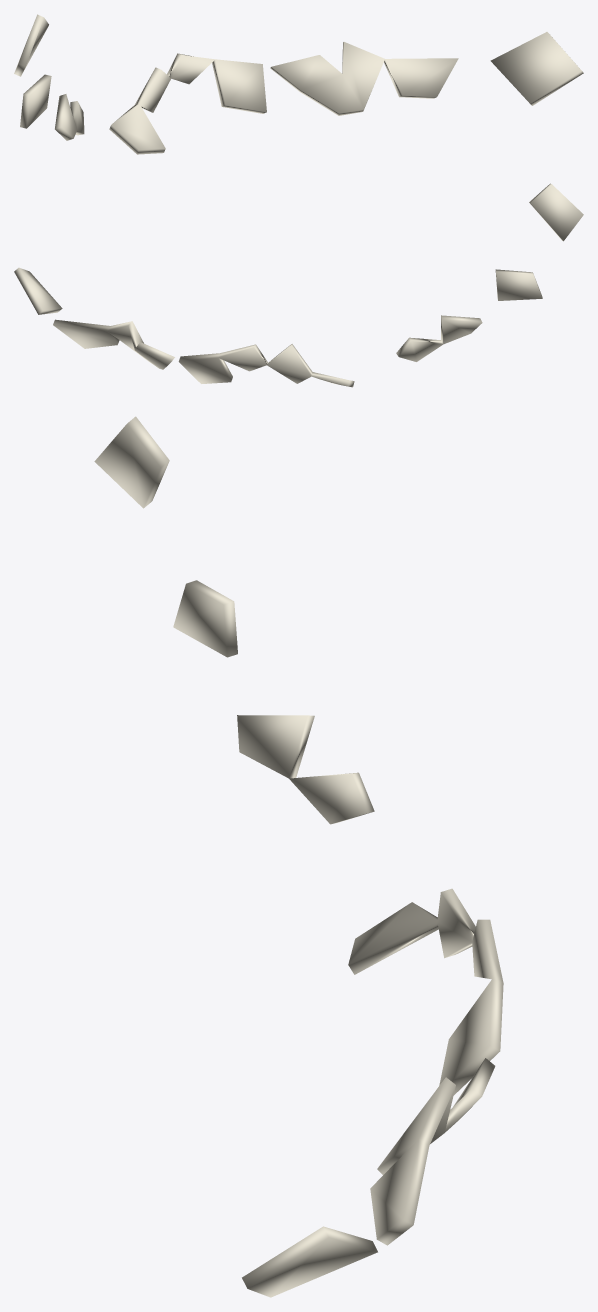
The picture shows the model from 3 angles, top to bottom: view 1: azimuth 30°, elevation 25°; view 2: azimuth 150°, elevation 25°; view 3: azimuth 270°, elevation 25°; orthographic projection. The views are drawn at different scales.
Visible parts, largest first — view 1: ZA_561637a3801424d1; view 2: ZA_561637a3801424d1; view 3: ZA_561637a3801424d1.
Part boxes in pixels (x1,y1,x2,y2): ZA_561637a3801424d1: (14, 14, 583, 154); ZA_561637a3801424d1: (14, 183, 583, 387); ZA_561637a3801424d1: (94, 416, 503, 1297).
Bounding box in the file's own units: 0.0468 × 0.0186 × 0.0158.
